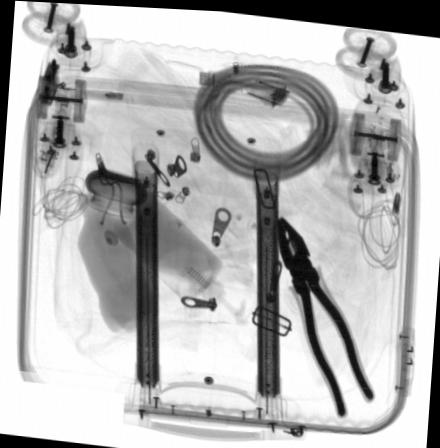Pliers: (275, 214, 376, 414)
